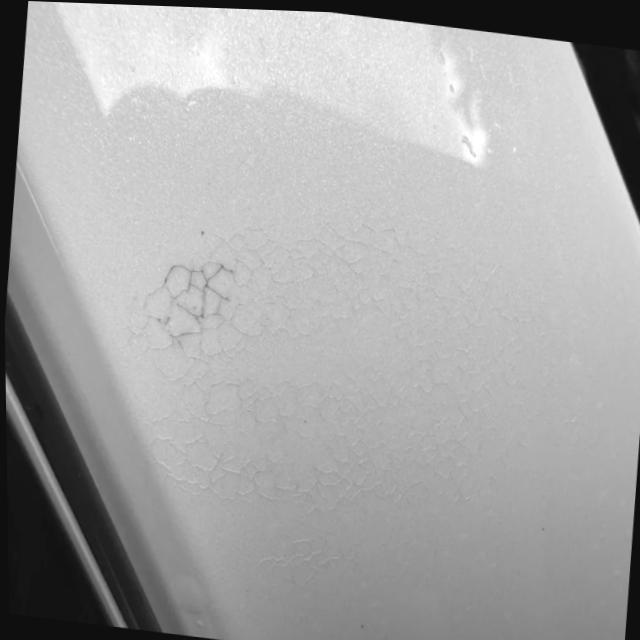Paint-Crack: (119, 228, 262, 371)
